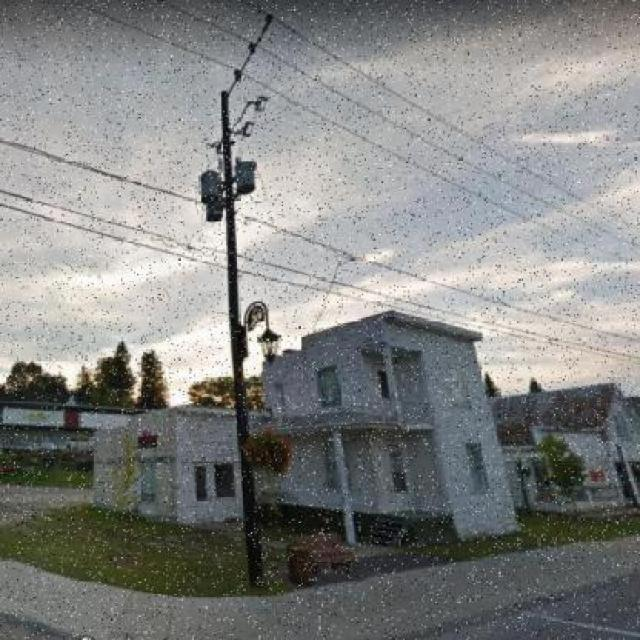pole: (166, 52, 320, 590)
